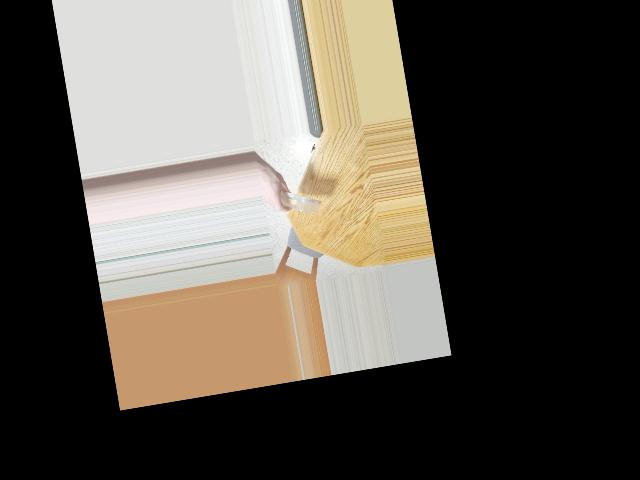cheese: (274, 186, 324, 218)
